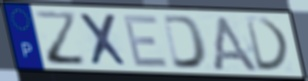A: (209, 14, 262, 75)
D: (243, 16, 293, 73), (161, 14, 209, 71)
E: (121, 14, 171, 69)
X: (76, 11, 130, 68)
Z: (33, 9, 89, 67)
